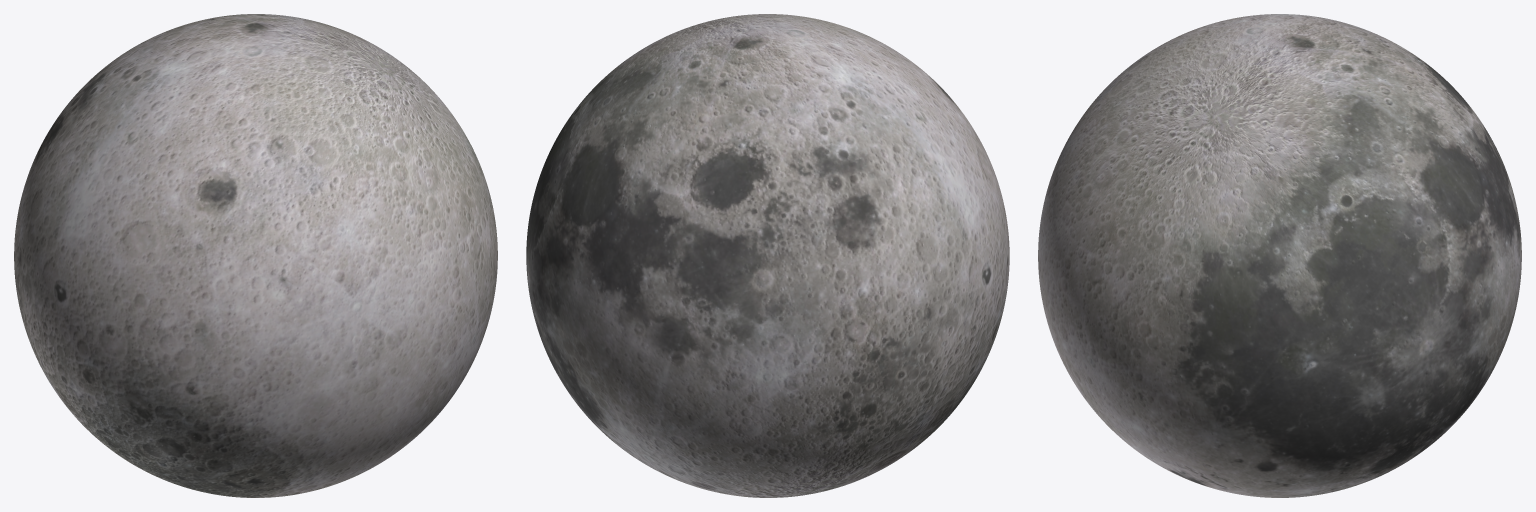
Rendered from cinematic-moon.fbx.
3 renders of one model, left to right at view 1: azimuth 30°, elevation 25°; view 2: azimuth 150°, elevation 25°; view 3: azimuth 270°, elevation 25°, orthographic.
Visible parts, largest first — view 1: Sphere; view 2: Sphere; view 3: Sphere.
Part boxes in pixels (<box>): Sphere: <box>14,14,497,497</box>; Sphere: <box>526,14,1009,497</box>; Sphere: <box>1038,14,1521,497</box>.
Size of the model in its own units: 200 by 200 by 200.
1 material, 1 textured.
